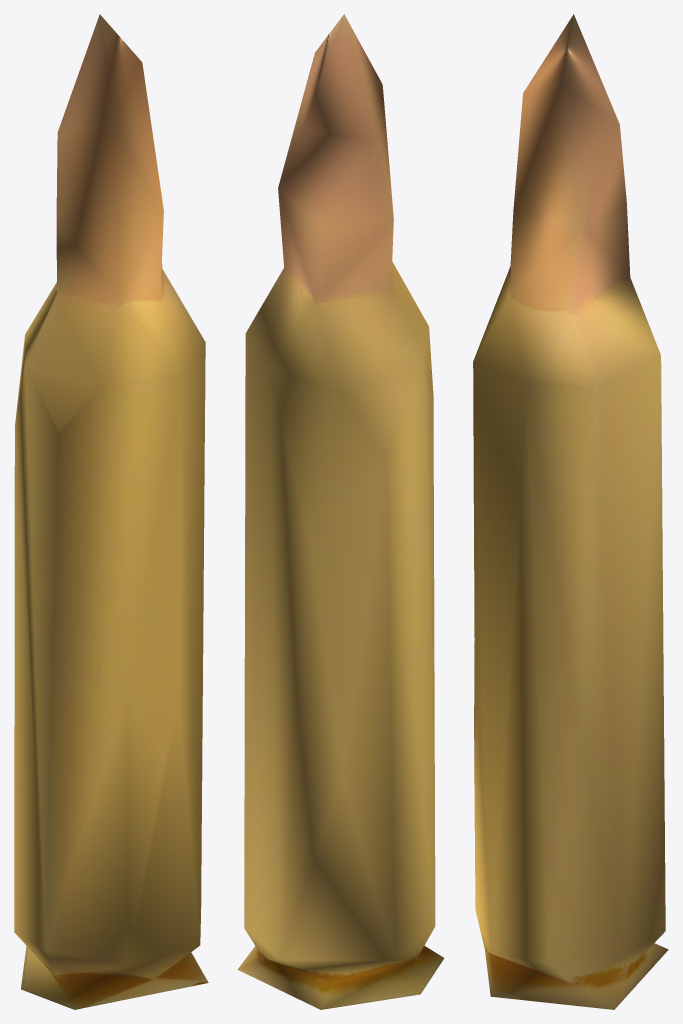
Rendered from Bullet.fbx.
The picture shows the model from 3 angles, left to right: view 1: azimuth 30°, elevation 25°; view 2: azimuth 150°, elevation 25°; view 3: azimuth 270°, elevation 25°; orthographic projection.
Visible parts, largest first — view 1: Mesh_0; view 2: Mesh_0; view 3: Mesh_0.
Part boxes in pixels (box(x1,y1,x2,y2)): Mesh_0: box(14, 14, 208, 1009); Mesh_0: box(237, 14, 444, 1009); Mesh_0: box(473, 14, 668, 1009).
Bounding box in the file's own units: 36.73 × 200 × 37.18.
1 material, 1 textured.
